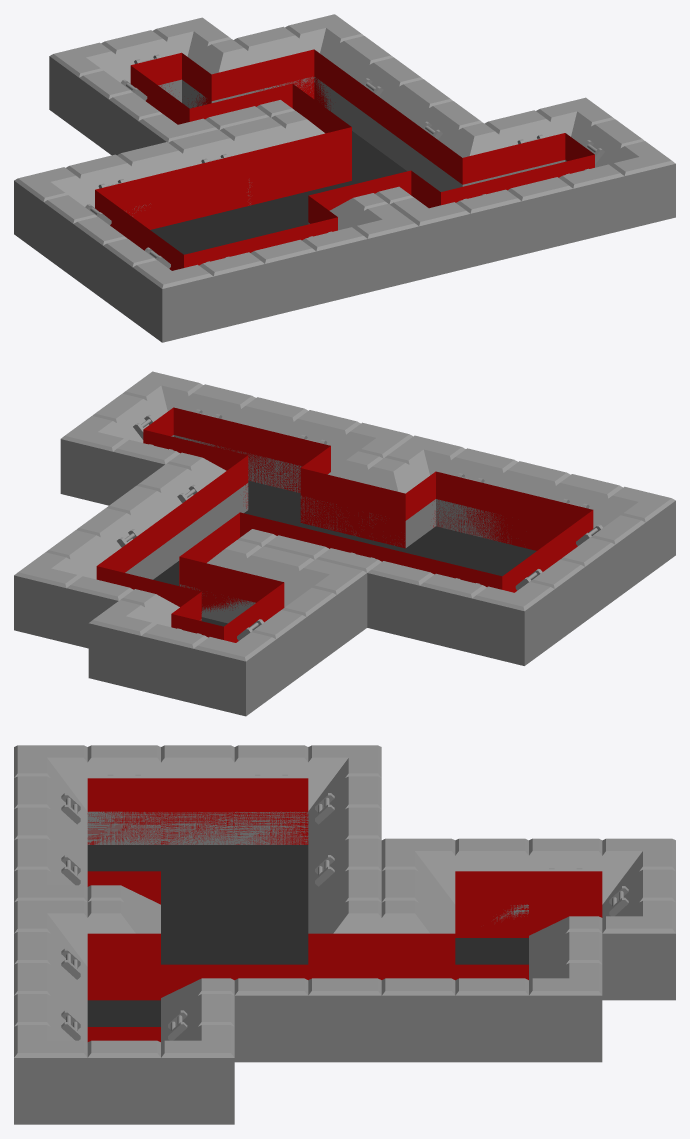
Rendered from level_4.fbx.
The picture shows the model from 3 angles, top to bottom: view 1: azimuth 30°, elevation 25°; view 2: azimuth 150°, elevation 25°; view 3: azimuth 270°, elevation 25°; orthographic projection. The views are drawn at different scales.
Parts seen in each view (by area): view 1: walls, bounds, ground; view 2: walls, bounds, ground; view 3: walls, bounds, ground.
Part boxes in pixels (<box>): walls: <box>14,14,675,342</box>; bounds: <box>95,49,594,270</box>; ground: <box>150,131,406,254</box>; walls: <box>14,371,675,716</box>; bounds: <box>96,407,593,642</box>; ground: <box>153,480,536,626</box>; walls: <box>14,745,675,1124</box>; bounds: <box>87,778,602,1041</box>; ground: <box>87,845,528,1026</box>.
Size of the model in its own units: 1000 by 105 by 900.
